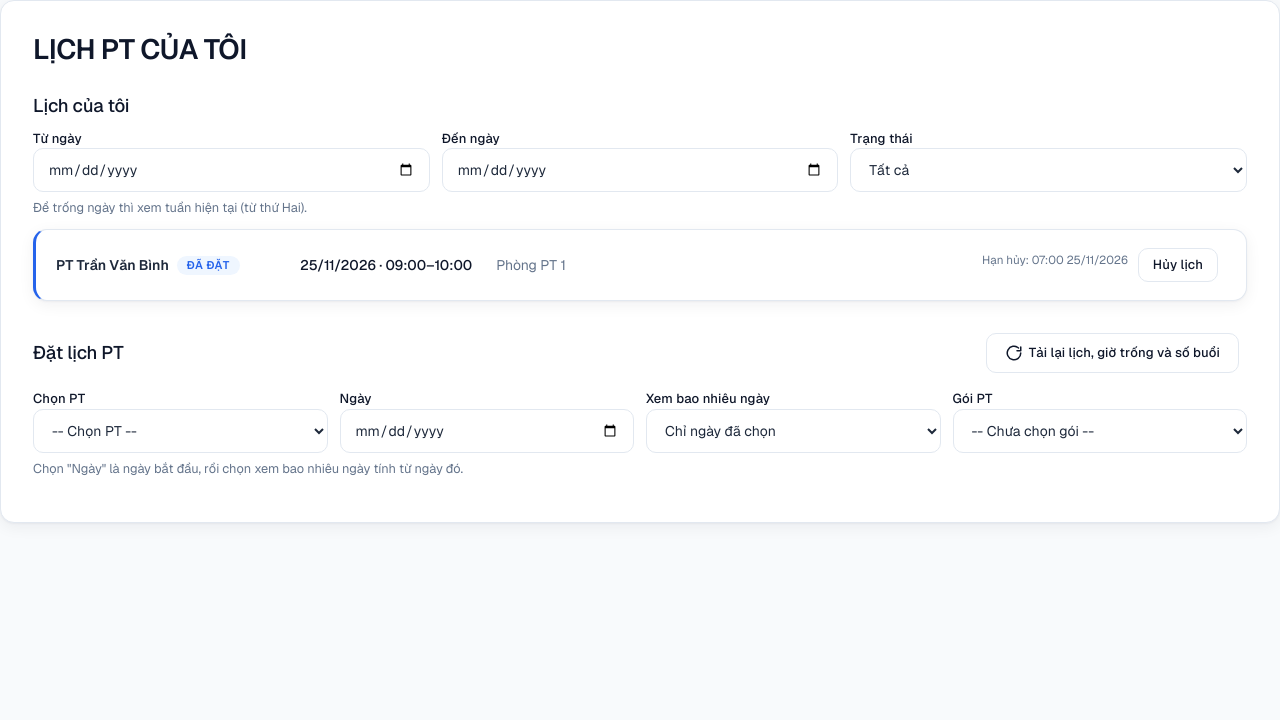
it: US-29 bước 3: Member hủy buổi PT trên trang /member/pt-bookings › US-29-TC01: thành công → "Đã hủy lịch", đóng bảng xác nhận, tải lại lịch của tôi và gói; thẻ hiện "Đã hủy" theo server
This screenshot has width=1280, height=720.
Click the button "Hủy lịch". click: click(1178, 265)
box: [1138, 248, 1218, 282]
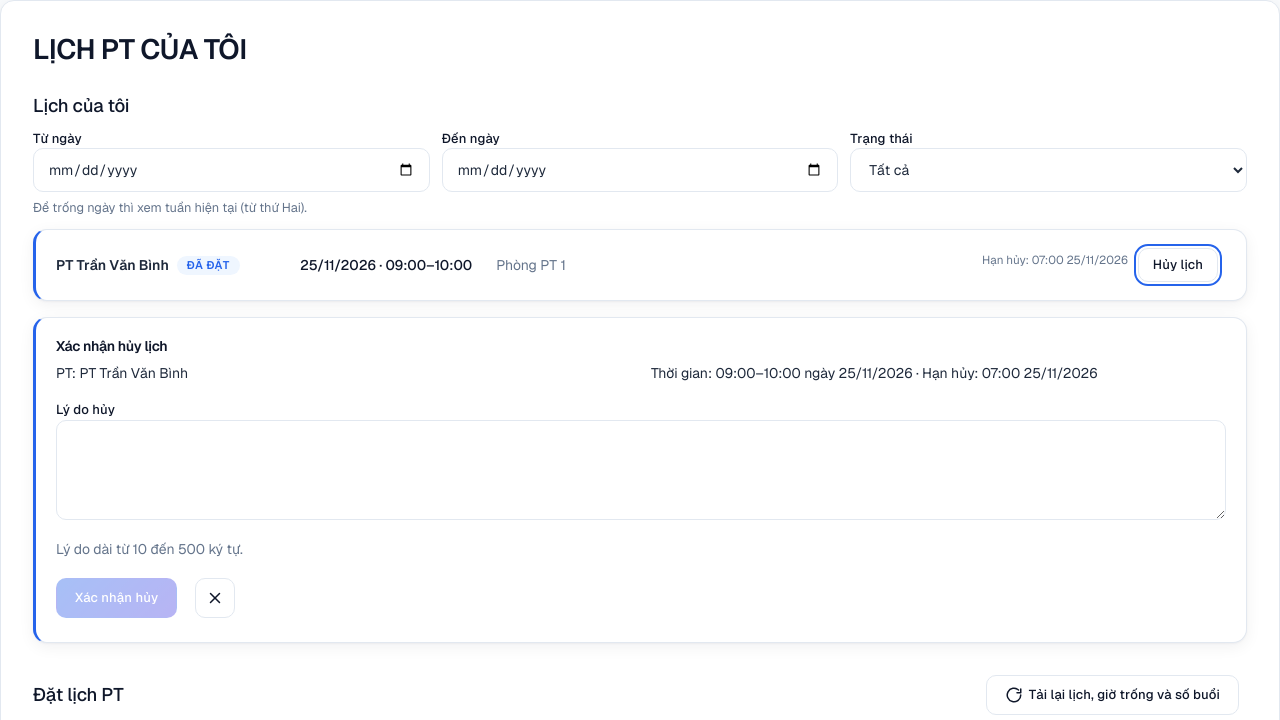
Type "Bận việc gia đình đột xuất" into the text box labelled "Lý do hủy". click: (641, 470)
box: [56, 420, 1226, 520]
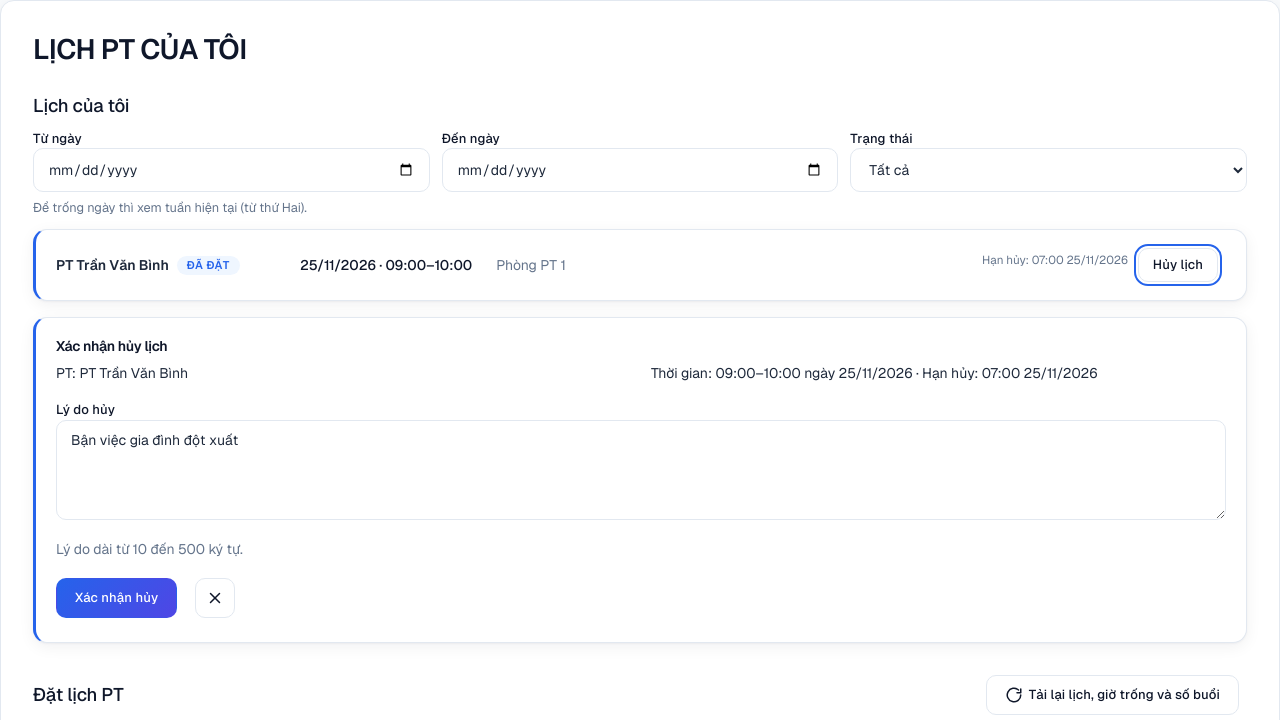
Click the button "Xác nhận hủy". click: click(117, 598)
box: [56, 578, 177, 618]
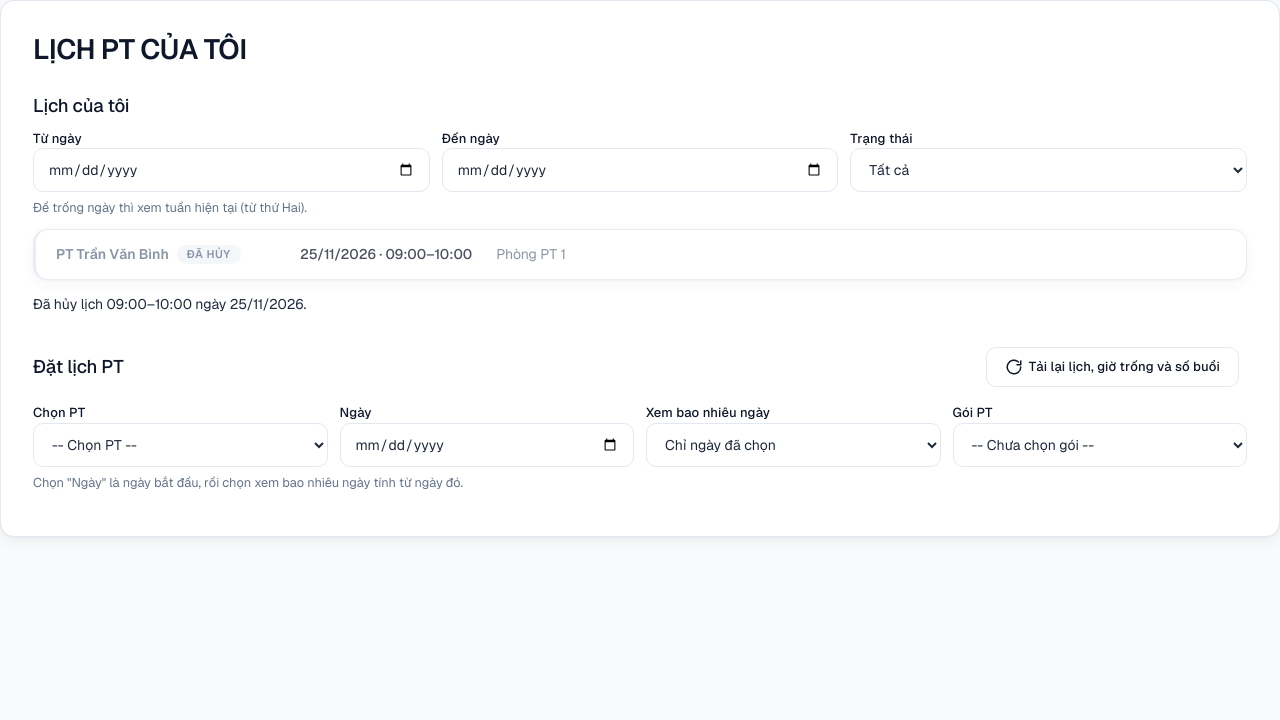
Check: the heading "Xác nhận hủy lịch" is gone
Check: the text "Đã hủy" is shown, box [177, 246, 241, 264]
